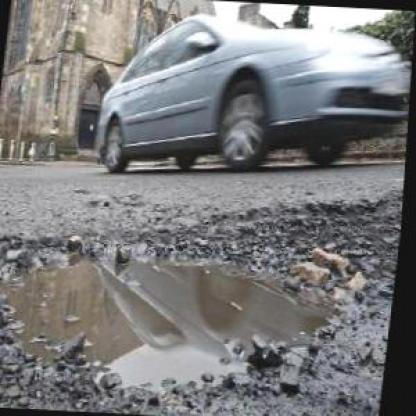pothole: (0, 206, 363, 407)
